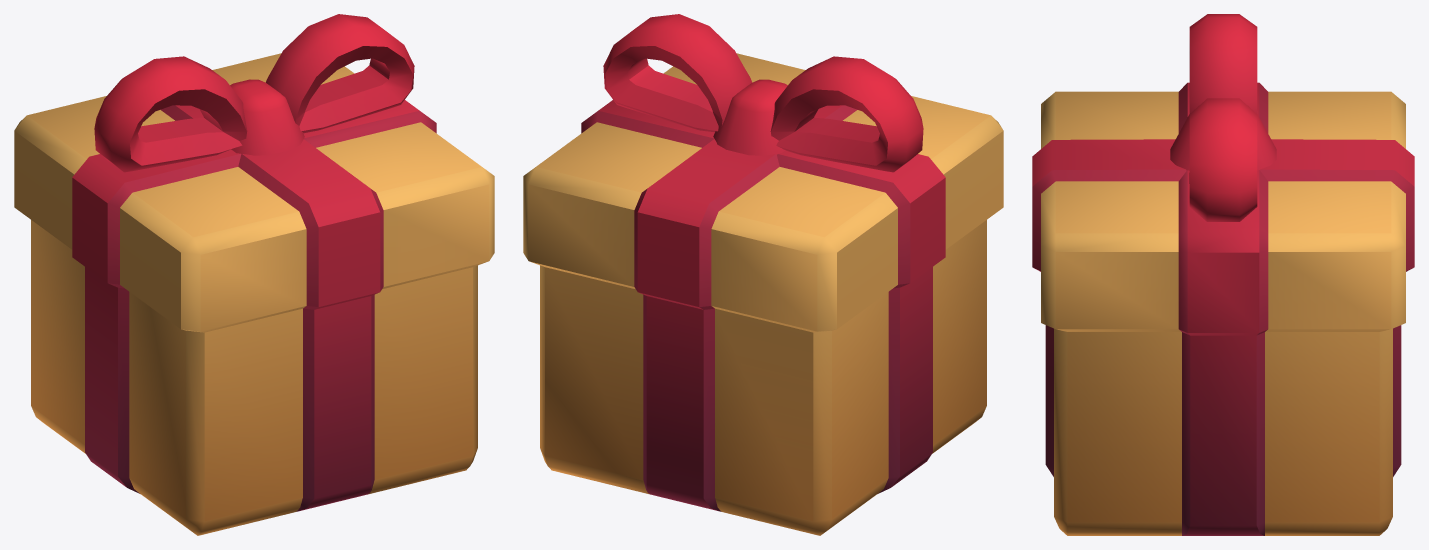
Rendered from present_A_yellow.obj.
3 views of the same model, side by side, from view 1: azimuth 30°, elevation 25°; view 2: azimuth 150°, elevation 25°; view 3: azimuth 270°, elevation 25° (orthographic).
Visible parts, largest first — view 1: present_A_yellow; view 2: present_A_yellow; view 3: present_A_yellow.
Part boxes in pixels (bbox=[...]): present_A_yellow: bbox=[14, 14, 494, 535]; present_A_yellow: bbox=[523, 14, 1003, 535]; present_A_yellow: bbox=[1032, 14, 1414, 535].
Size of the model in its own units: 0.5637 by 0.6617 by 0.5638.
Materials: 1 (1 with a texture image).
